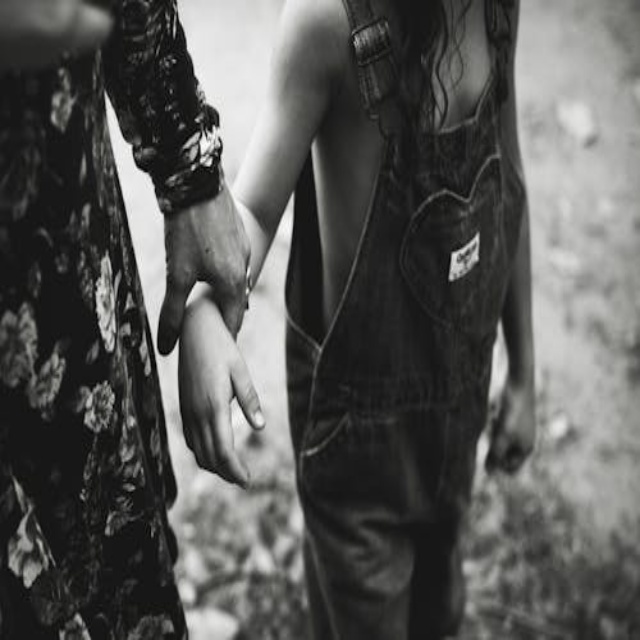Sin_guantes: (173, 293, 271, 493), (154, 175, 255, 360)
